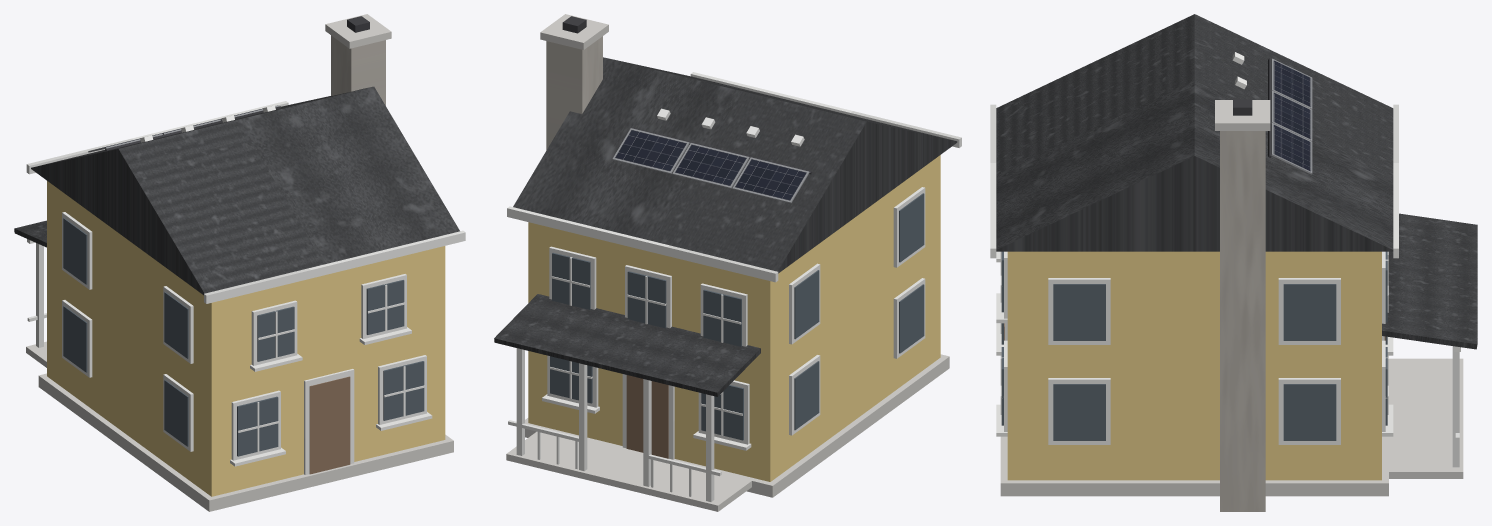
The model's file is house-east-yellow.glb.
3 views of the same model, side by side, from view 1: azimuth 30°, elevation 25°; view 2: azimuth 150°, elevation 25°; view 3: azimuth 270°, elevation 25° (orthographic). The views are drawn at different scales.
Parts seen in each view (by area): view 1: Roof, WallSideW, WallR_L, WallR_R, Foundation, WallR_head, DoorR, FasciaR, Chimney, WinGlass.005, WinGlass.006, WinGlass.008 (+19 smaller); view 2: Roof, WallSideW, PorchRoof, WallF_L, WallF_R, PorchSlab, Foundation, Chimney, FasciaF, DoorF, SolarPanel_1, SolarPanel_0 (+27 smaller); view 3: Roof, WallSideE, Chimney, PorchRoof, PorchSlab, Foundation, WinGlassS.002, WinGlassS.003, WinGlassS, WinGlassS.001, WallR_R, WallF_R (+11 smaller).
Part boxes in pixels (bbox=[...]): Roof: bbox=[31, 86, 459, 295]; WallSideW: bbox=[51, 184, 207, 493]; WallR_L: bbox=[207, 279, 308, 496]; WallR_R: bbox=[348, 246, 445, 461]; Foundation: bbox=[38, 373, 453, 511]; WallR_head: bbox=[308, 269, 348, 379]; DoorR: bbox=[309, 376, 350, 474]; FasciaR: bbox=[204, 230, 465, 303]; Chimney: bbox=[331, 35, 385, 105]; WinGlass.005: bbox=[237, 396, 278, 456]; WinGlass.006: bbox=[383, 361, 424, 420]; WinGlass.008: bbox=[366, 280, 404, 334]; Roof: bbox=[513, 57, 957, 273]; WallSideW: bbox=[774, 158, 936, 478]; PorchRoof: bbox=[494, 294, 760, 396]; WallF_L: bbox=[670, 256, 774, 481]; WallF_R: bbox=[528, 222, 628, 445]; PorchSlab: bbox=[506, 431, 751, 511]; Foundation: bbox=[525, 354, 949, 497]; Chimney: bbox=[546, 36, 602, 150]; FasciaF: bbox=[507, 206, 778, 282]; DoorF: bbox=[626, 375, 668, 458]; SolarPanel_1: bbox=[672, 143, 749, 188]; SolarPanel_0: bbox=[732, 157, 809, 203]; Roof: bbox=[996, 14, 1393, 251]; WallSideE: bbox=[1017, 251, 1372, 480]; Chimney: bbox=[1220, 131, 1265, 511]; PorchRoof: bbox=[1382, 213, 1477, 349]; PorchSlab: bbox=[1382, 358, 1463, 478]; Foundation: bbox=[1000, 355, 1388, 496]; WinGlassS.002: bbox=[1283, 384, 1336, 440]; WinGlassS.003: bbox=[1283, 284, 1336, 340]; WinGlassS: bbox=[1053, 384, 1105, 440]; WinGlassS.001: bbox=[1053, 284, 1105, 340]; WallR_R: bbox=[1007, 251, 1017, 480]; WallF_R: bbox=[1372, 251, 1381, 480].
Bounding box in the file's own units: 7.77 × 9.18 × 10.16.
Materials: 10 (10 with a texture image).
